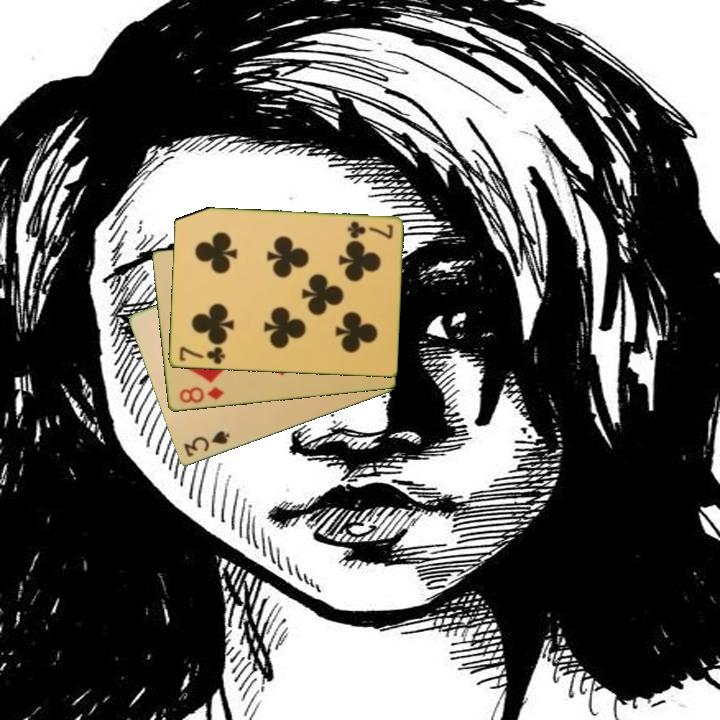3s: (180, 427, 233, 460)
7c: (176, 343, 228, 367), (344, 218, 395, 242)
8d: (175, 383, 226, 406)
